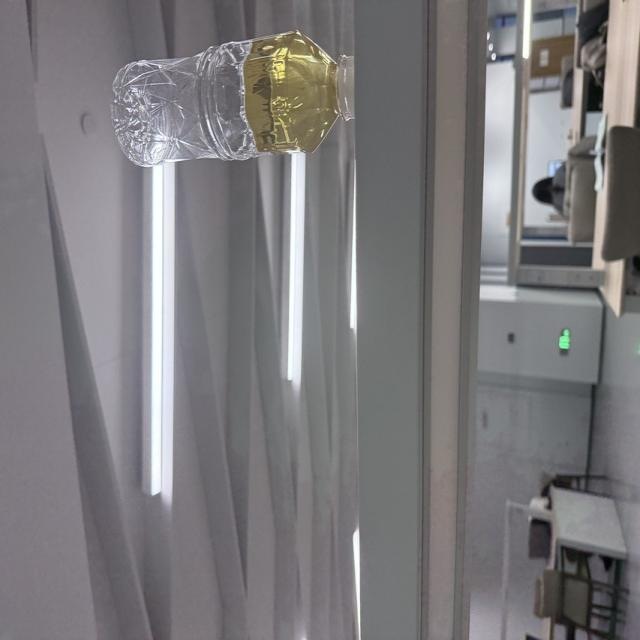low: (111, 30, 354, 166)
